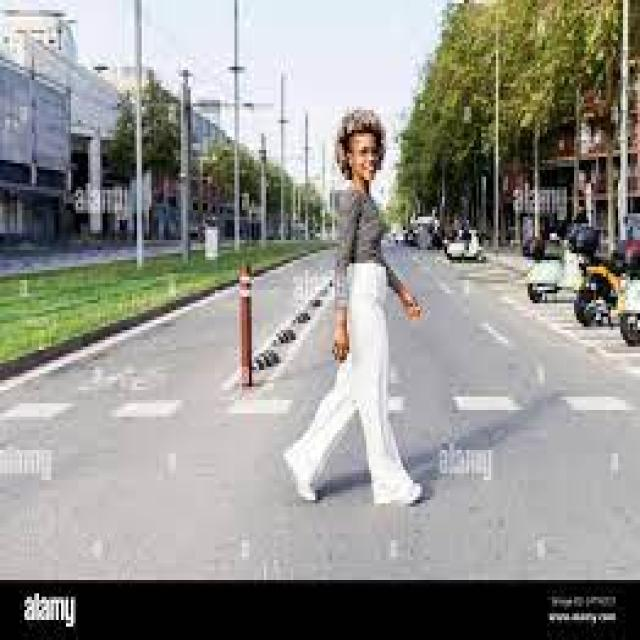Person: (284, 105, 426, 509)
